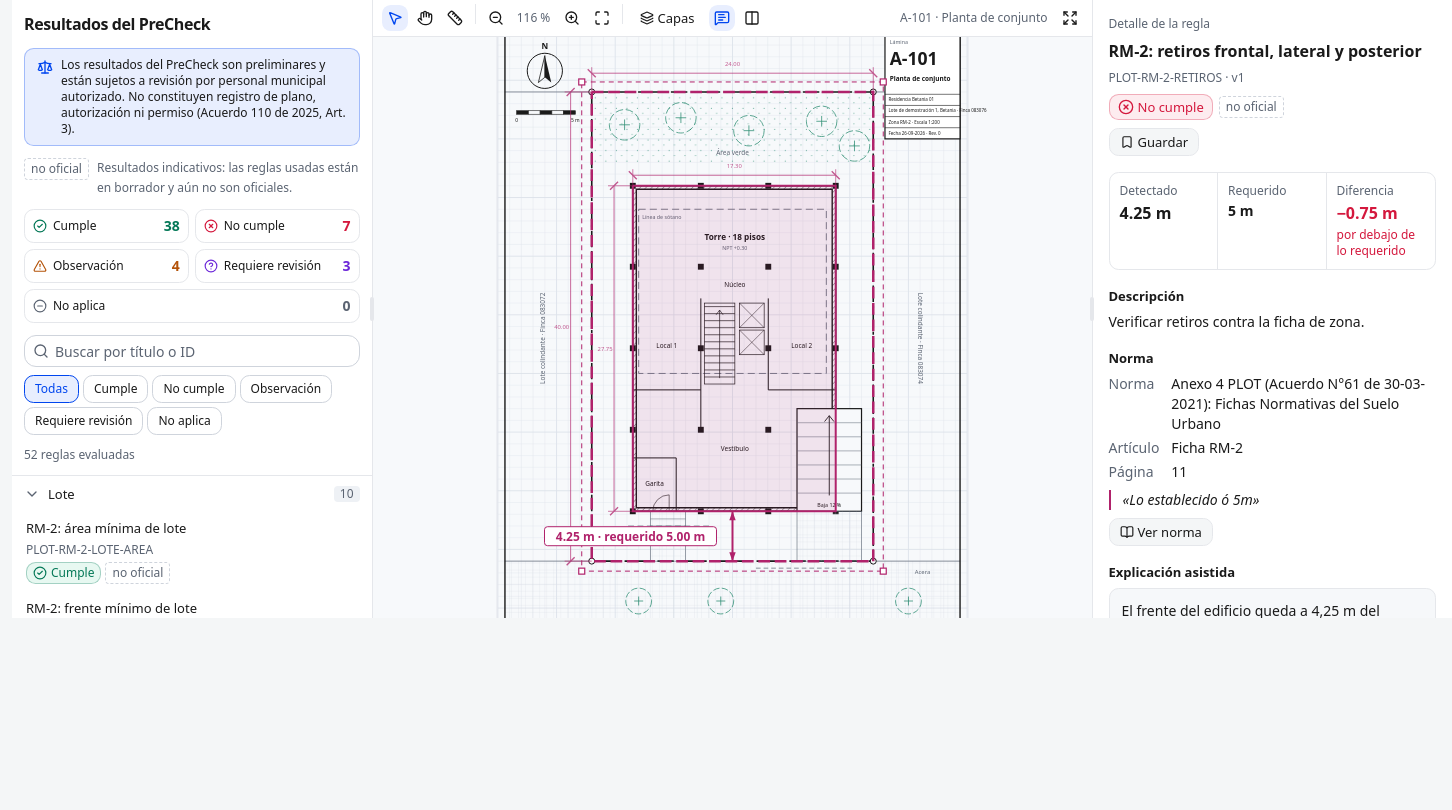
Test: PreCheckWorkspace › muestra los contadores y filtra por estado y por búsqueda
The image size is (1452, 810).
Click the button "No cumple 7".
click(277, 226)  # box [195, 209, 360, 243]
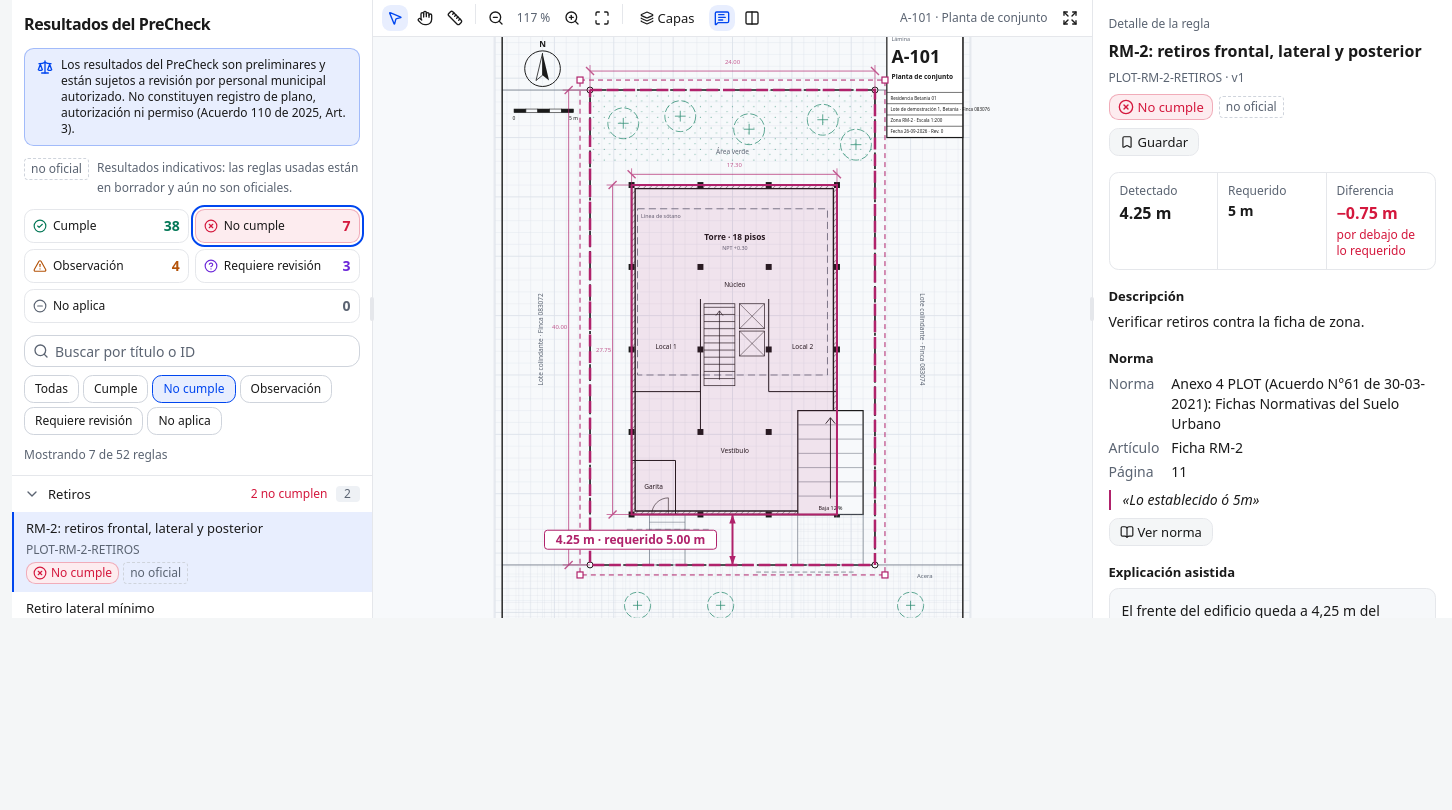
Check: the text "Mostrando 7 de 52 reglas" is shown, box [24, 446, 167, 463]
Type "rampa" into the search field named "Buscar regla".
click(204, 351); type("rampa")  # box [49, 335, 358, 367]
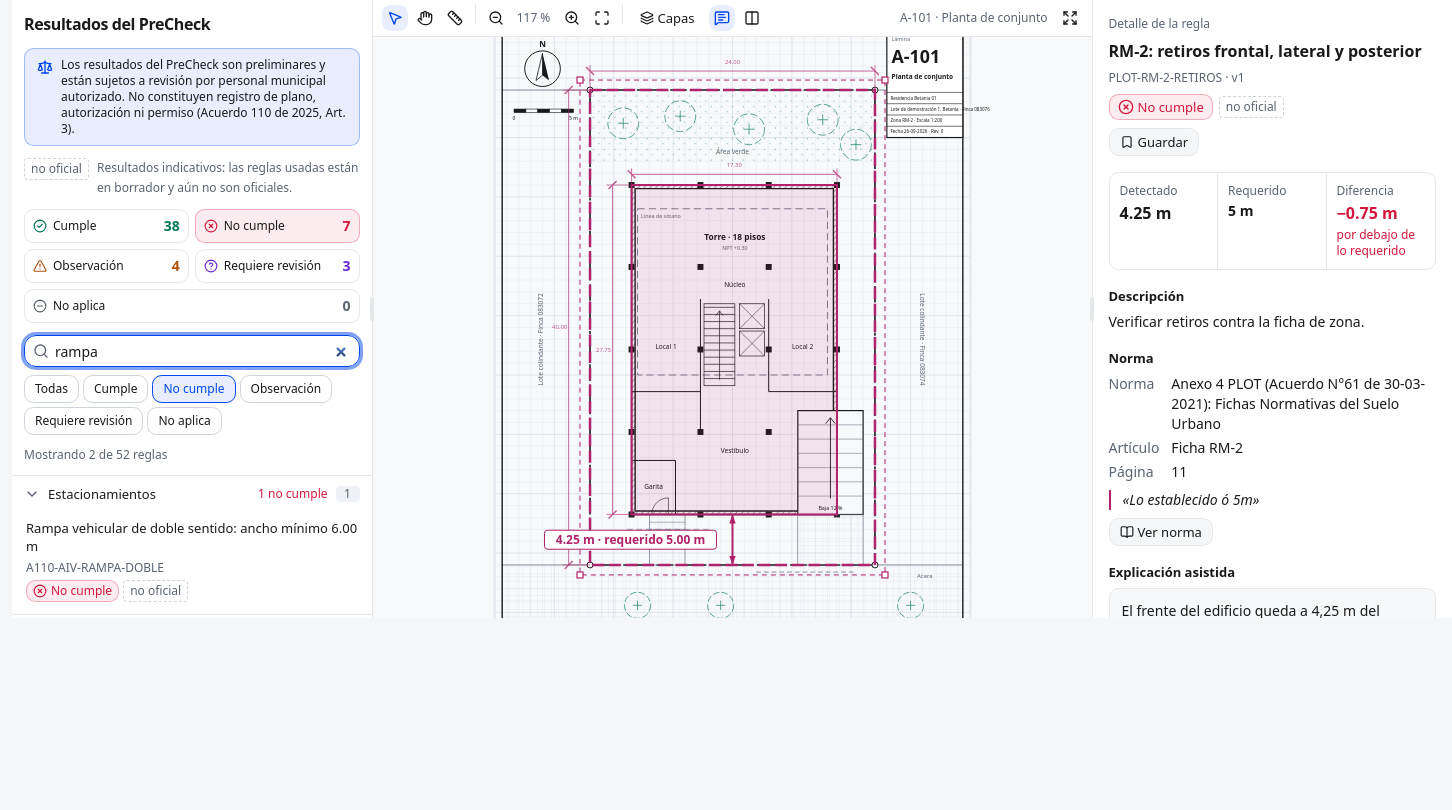
Check: the heading "Estacionamientos 1 no cumple 1" is shown, box [12, 476, 372, 512]
